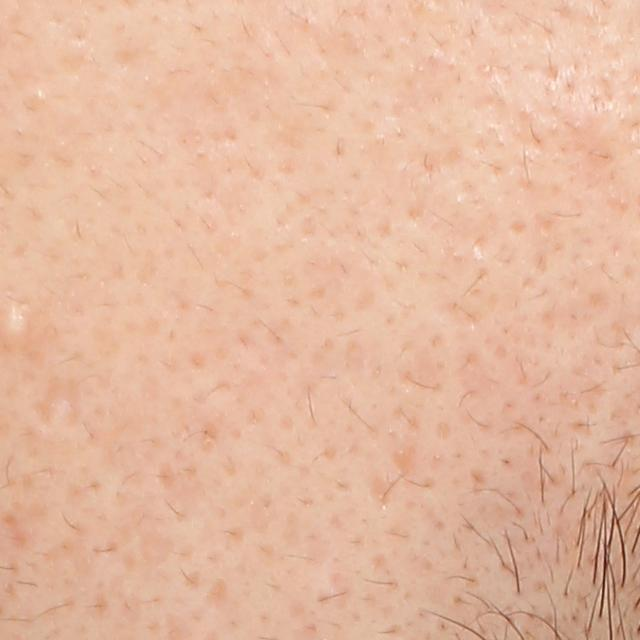atrophic_scar: (29, 368, 93, 433), (391, 442, 423, 480)
